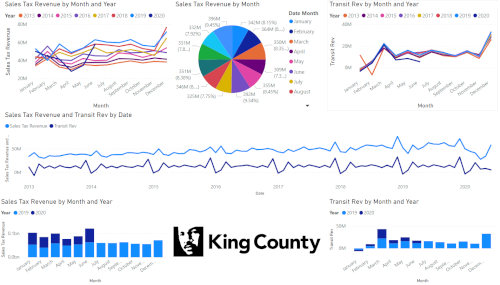

This screenshot's page, from the dashboard's own definition file:
{"tool":"powerbi","page":{"name":"Page 1","canvas":[1280,720],"ordinal":0},"visuals":[{"type":"lineChart","fields":{"Y":["Sum(KC Sales Tax Revenue.Sales Tax Revenue)"],"Category":["DateTable.Date.Variation.Date Hierarchy.Month1"],"Series":["DateTable.Date.Variation.Date Hierarchy.Year"]},"box":[9.8,0,431.5,279.7],"z":0},{"type":"lineChart","fields":{"Category":["DateTable.Date.Variation.Date Hierarchy.Year"],"Y":["Sum(KC Sales Tax Revenue.Revenue)","Sum(KC Transit Revenue.Transit Rev)"]},"box":[9.8,279.7,1252.7,219.3],"z":1000},{"type":"lineChart","fields":{"Y":["Sum(KC Transit Revenue.Transit Rev)"],"Category":["DateTable.Date.Variation.Date Hierarchy.Month"],"Series":["DateTable.Date.Variation.Date Hierarchy.Year"]},"box":[831,0,431.5,279.7],"z":2000},{"type":"pieChart","fields":{"Category":["DateTable.Date.Variation.Date Hierarchy.Month1"],"Y":["Sum(KC Sales Tax Revenue.Sales Tax Revenue)"]},"box":[441.2,0,389.7,279.7],"z":3000},{"type":"columnChart","fields":{"Category":["DateTable.Date.Variation.Date Hierarchy.Month1"],"Y":["Sum(KC Sales Tax Revenue.Sales Tax Revenue)"],"Series":["DateTable.Date.Variation.Date Hierarchy.Year"]},"box":[0,498.9,431.5,221.1],"z":4000},{"type":"columnChart","fields":{"Category":["DateTable.Date.Variation.Date Hierarchy.Month1"],"Series":["DateTable.Date.Variation.Date Hierarchy.Year"],"Y":["Sum(KC Transit Revenue.Transit Rev)"]},"box":[831,498.9,431.5,221.1],"z":4001},{"type":"image","box":[431.5,561.1,392.4,96.8],"z":4002}]}

Visuals, with their boxes in screenshot pixels (x1, y1, x2, y2), scaled from the page's 1280x720 canvas onto the 500x285 screenshot:
lineChart - Sum(KC Sales Tax Revenue.Sales Tax Revenue) x DateTable.Date.Variation.Date Hierarchy.Month1: left=4, top=0, right=172, bottom=111
lineChart - DateTable.Date.Variation.Date Hierarchy.Year x Sum(KC Sales Tax Revenue.Revenue): left=4, top=111, right=493, bottom=198
lineChart - Sum(KC Transit Revenue.Transit Rev) x DateTable.Date.Variation.Date Hierarchy.Month: left=325, top=0, right=493, bottom=111
pieChart - DateTable.Date.Variation.Date Hierarchy.Month1 x Sum(KC Sales Tax Revenue.Sales Tax Revenue): left=172, top=0, right=325, bottom=111
columnChart - DateTable.Date.Variation.Date Hierarchy.Month1 x Sum(KC Sales Tax Revenue.Sales Tax Revenue): left=0, top=197, right=169, bottom=284
columnChart - DateTable.Date.Variation.Date Hierarchy.Month1 x DateTable.Date.Variation.Date Hierarchy.Year: left=325, top=197, right=493, bottom=284
image: left=169, top=222, right=322, bottom=260
